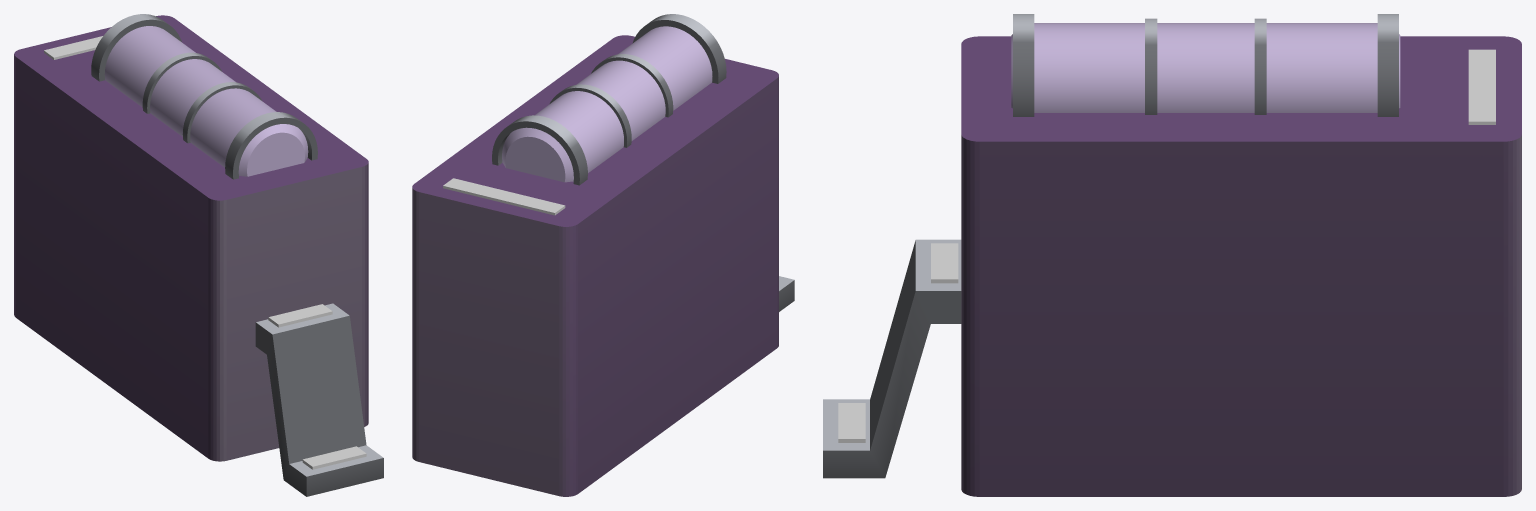
The model's file is pin_amplifier_tube.glb.
3 renders of one model, left to right at view 1: azimuth 30°, elevation 25°; view 2: azimuth 150°, elevation 25°; view 3: azimuth 270°, elevation 25°, orthographic. The views are drawn at different scales.
Parts seen in each view (by area): view 1: Korpus, Glas, Licht, Seltenheit; view 2: Korpus, Glas, Licht; view 3: Korpus, Glas, Licht, Seltenheit.
Part boxes in pixels (x1=…): Korpus: x1=14, y1=14, x2=383, y2=496; Glas: x1=104, y1=26, x2=308, y2=176; Licht: x1=44, y1=36, x2=366, y2=469; Seltenheit: x1=268, y1=304, x2=332, y2=327; Korpus: x1=412, y1=14, x2=794, y2=496; Glas: x1=502, y1=26, x2=712, y2=182; Licht: x1=443, y1=178, x2=565, y2=215; Korpus: x1=823, y1=14, x2=1521, y2=496; Glas: x1=1011, y1=23, x2=1400, y2=112; Licht: x1=838, y1=49, x2=1495, y2=442; Seltenheit: x1=931, y1=243, x2=958, y2=283.
Bounding box in the file's own units: 0.82 × 1.57 × 2.3.
